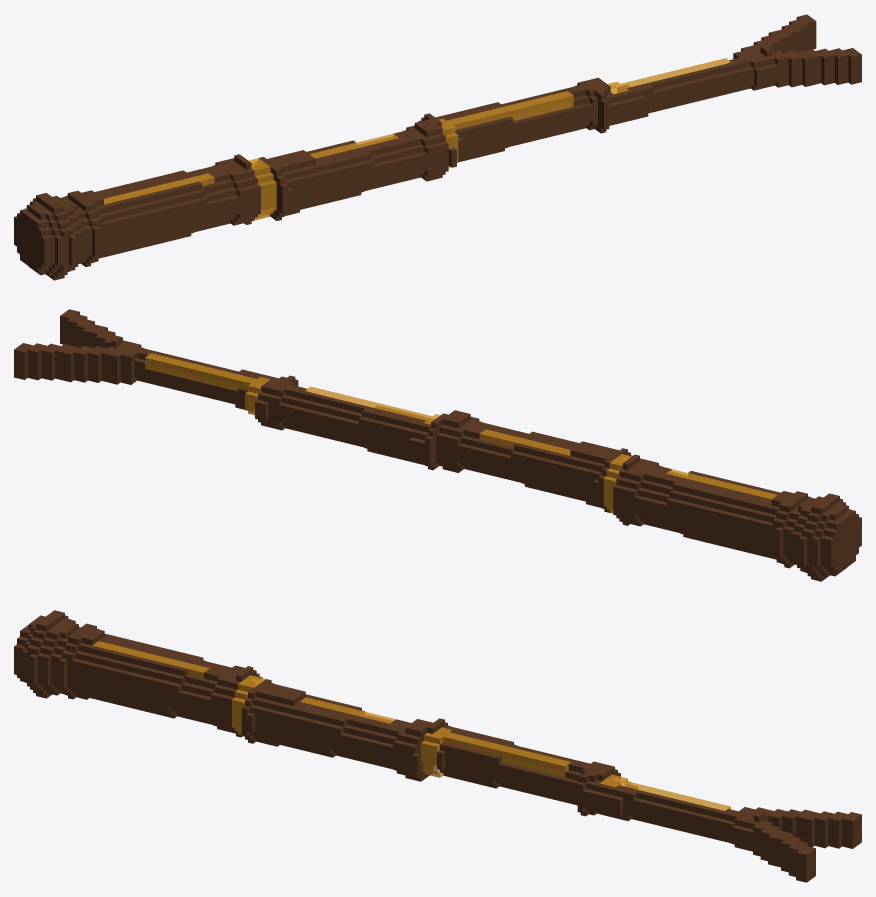
File: endochitin.glb
The picture shows the model from 3 angles, top to bottom: view 1: azimuth 30°, elevation 25°; view 2: azimuth 150°, elevation 25°; view 3: azimuth 330°, elevation 25°; orthographic projection.
Parts seen in each view (by area): view 1: endochitin:compound; view 2: endochitin:compound; view 3: endochitin:compound.
Part boxes in pixels (bbox=[...]): endochitin:compound: bbox=[14, 14, 861, 280]; endochitin:compound: bbox=[14, 309, 861, 581]; endochitin:compound: bbox=[14, 610, 861, 882].
Bounding box in the file's own units: 0.304 × 0.026 × 0.036.
